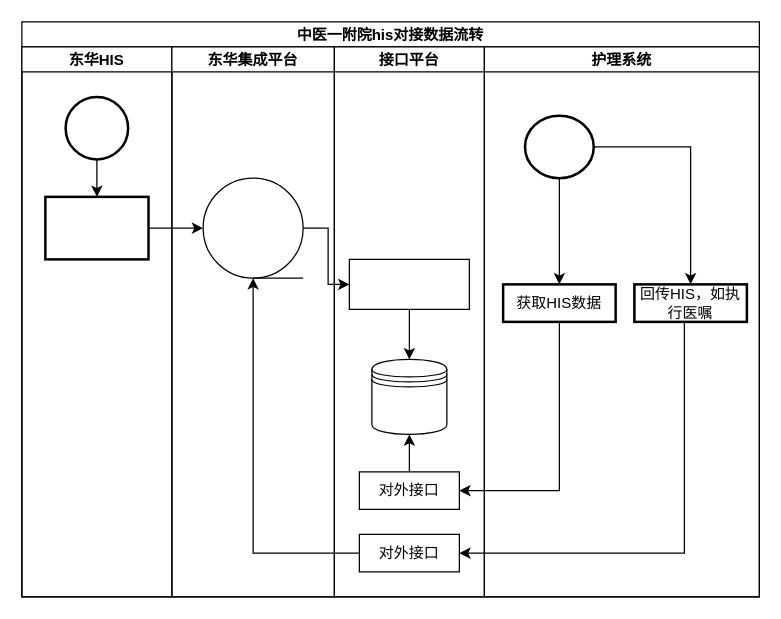
Some shapes in this 781 by 619 pixel diagram are drawn without their labels. Here are the shapes that lost their labels. From the top down, the centre of each, then its label:
At (x=558, y=146): "Start".
At (x=96, y=227): "业务操作，如入科、调床、处理医嘱".
At (x=252, y=227): "消息平台".
At (x=408, y=283): "webservice服务".
At (x=409, y=396): "数据入库".
